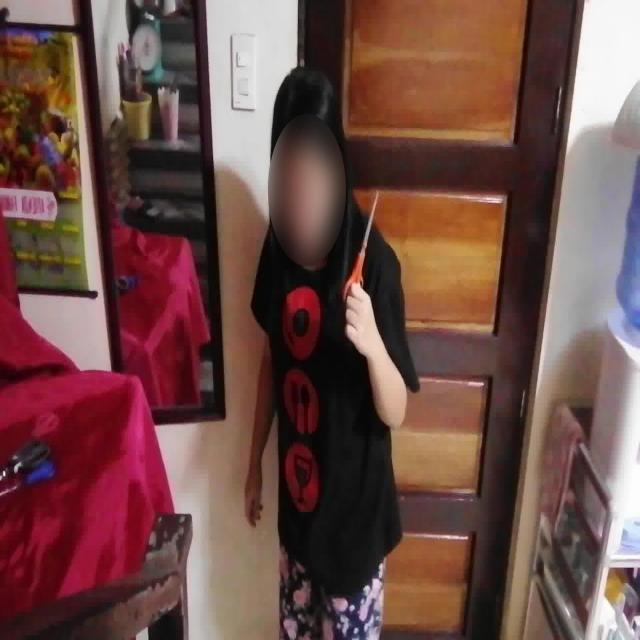scissor: (342, 188, 379, 311)
